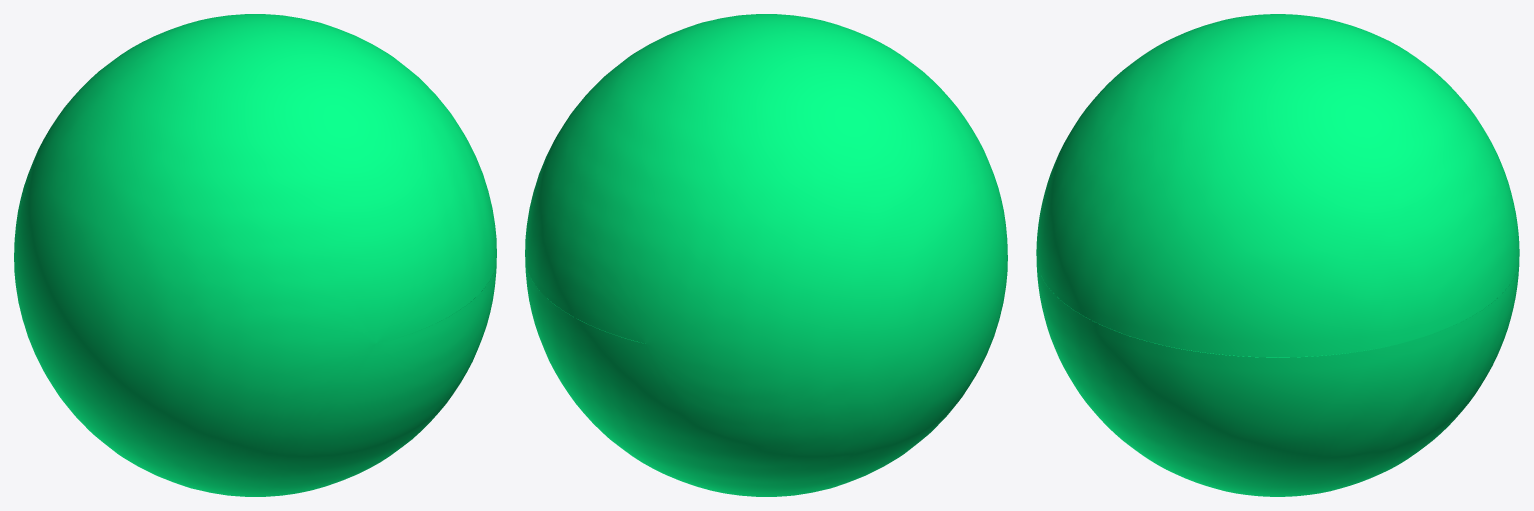
The model's file is volume_form_surface_ar_universal.glb.
3 renders of one model, left to right at view 1: azimuth 30°, elevation 25°; view 2: azimuth 150°, elevation 25°; view 3: azimuth 270°, elevation 25°, orthographic.
Visible parts, largest first — view 1: volume_form_surface_ar; view 2: volume_form_surface_ar; view 3: volume_form_surface_ar.
Part boxes in pixels (bbox=[...]): volume_form_surface_ar: bbox=[14, 14, 496, 496]; volume_form_surface_ar: bbox=[525, 14, 1007, 496]; volume_form_surface_ar: bbox=[1036, 14, 1519, 496].
Size of the model in its own units: 0.9989 by 0.9989 by 1.
